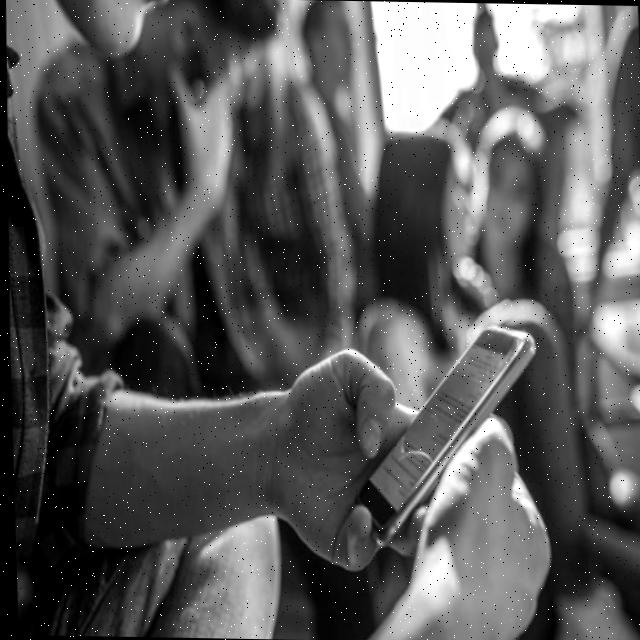phone: (342, 319, 547, 552)
